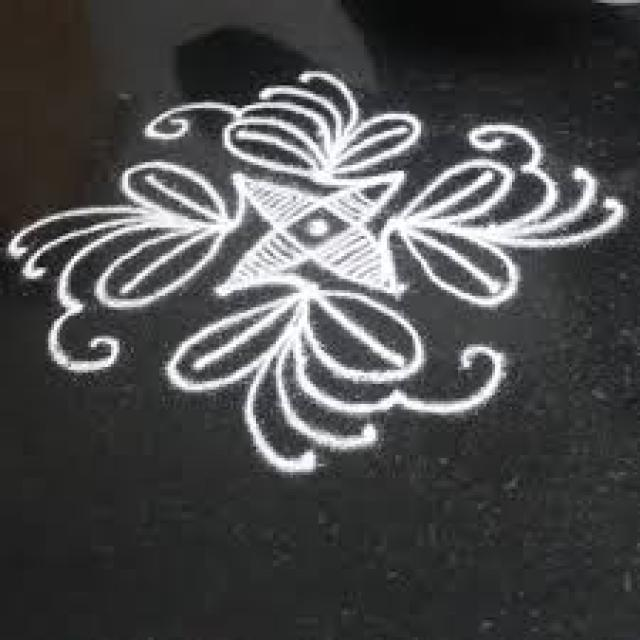rangoli: (2, 64, 628, 482)
